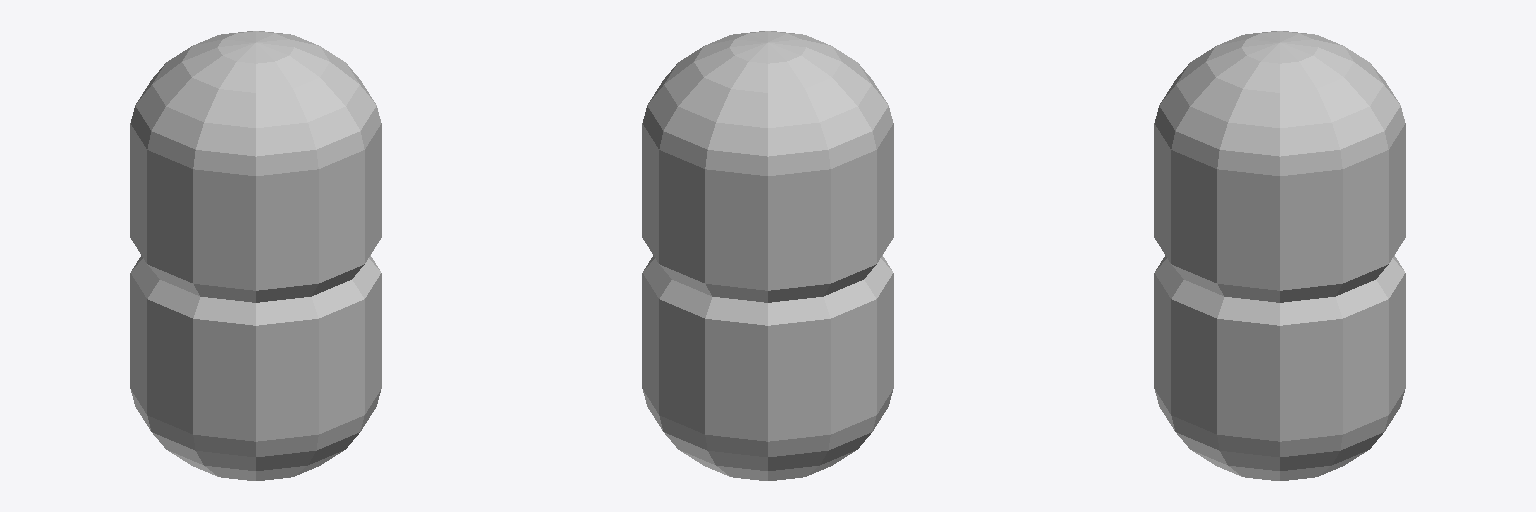
The model's file is Boya2.obj.
The picture shows the model from 3 angles: view 1: azimuth 30°, elevation 25°; view 2: azimuth 150°, elevation 25°; view 3: azimuth 270°, elevation 25°; orthographic projection.
Visible parts, largest first — view 1: Boya_1; view 2: Boya_1; view 3: Boya_1.
Boxes of the visible parts, box(x1,y1,x2,y2) form: Boya_1: box(130, 31, 381, 480); Boya_1: box(642, 31, 893, 480); Boya_1: box(1154, 31, 1405, 480).
Size of the model in its own units: 31.5 by 59.06 by 31.5.